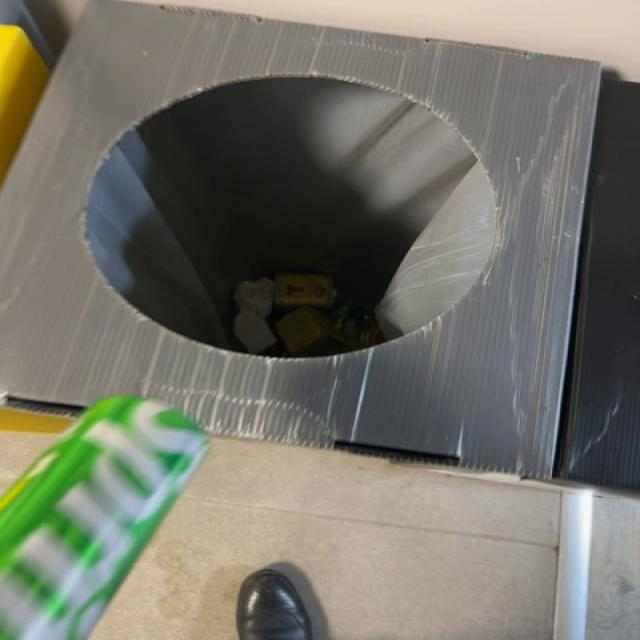bin: (1, 1, 601, 478)
metal: (1, 397, 208, 640)
